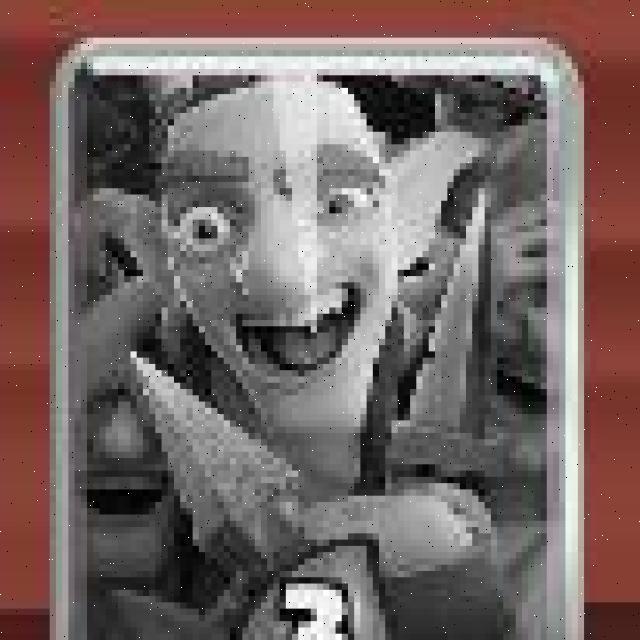Goblin_Gang: (54, 39, 587, 640)
